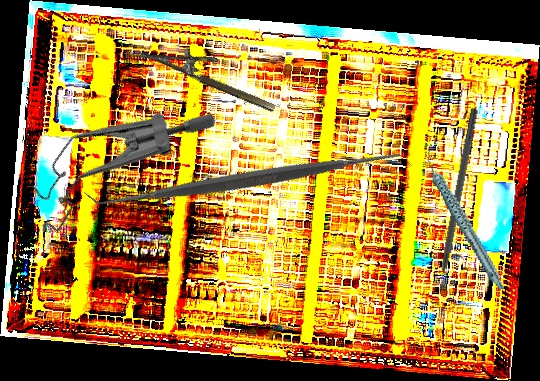Handpiece: (423, 140, 505, 300)
Hook Surgical: (431, 107, 480, 305)
Needle Holder: (137, 29, 284, 114)
Spatula Surgical: (83, 14, 413, 344)
Speculum: (11, 52, 221, 279)
